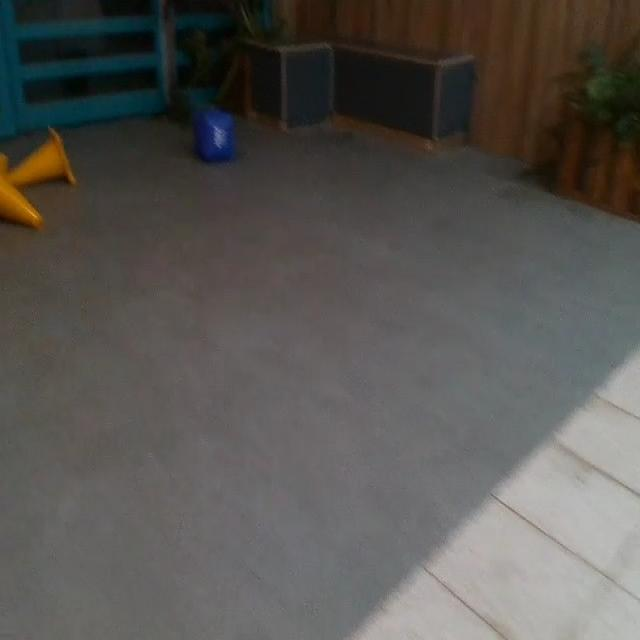cone: (0, 120, 79, 186), (0, 148, 46, 230)
cube: (197, 110, 238, 162)
